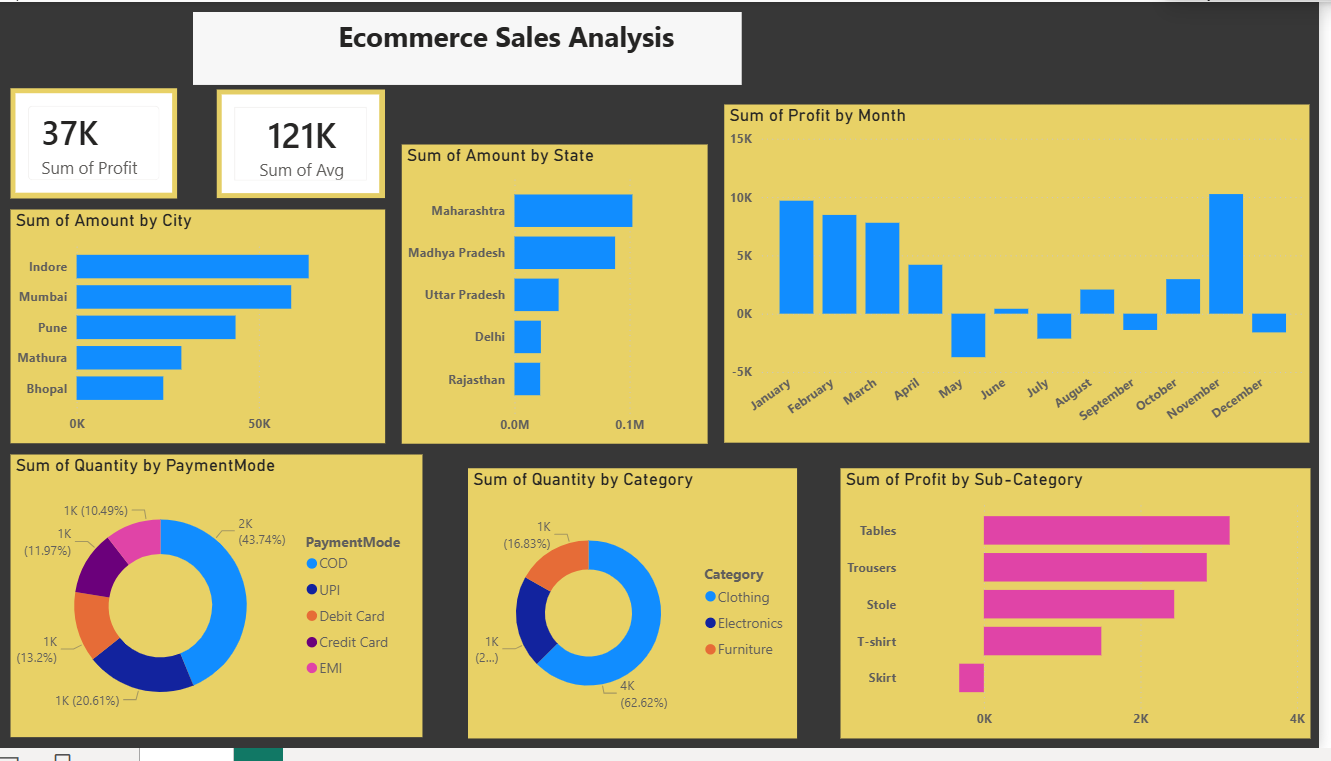

What the dashboard file says about the page in this screenshot:
{"tool":"powerbi","page":{"name":"Page 1","canvas":[1280,720],"ordinal":0},"visuals":[{"type":"columnChart","fields":{"Y":["Sum(Details.Profit)"],"Category":["Orders.Order Date.Variation.Date Hierarchy.Month"]},"box":[706,99.5,564.5,326.4],"z":0},{"type":"barChart","fields":{"Y":["Sum(Details.Profit)"],"Category":["Details.Sub-Category"]},"box":[818,449.6,453.8,260.5],"z":2},{"type":"donutChart","fields":{"Category":["Details.Category"],"Y":["Sum(Details.Quantity)"]},"box":[458,449.6,318,260.5],"z":3},{"type":"donutChart","fields":{"Y":["Sum(Details.Quantity)"],"Category":["Details.PaymentMode"]},"box":[16.8,437,397.8,273.1],"z":4},{"type":"cardVisual","fields":{"Data":["Sum(Details.Profit)"]},"box":[16.8,82.6,161.1,106.5],"z":8},{"type":"cardVisual","fields":{"Data":["Sum(Details.Avg)"]},"box":[215.7,84,162.5,105.1],"z":9},{"type":"textbox","box":[193.3,9.8,529.5,70],"z":10},{"type":"barChart","fields":{"Y":["Sum(Details.Amount)"],"Category":["Orders.State"]},"box":[395,137.3,295.6,288.6],"z":11},{"type":"barChart","fields":{"Y":["Sum(Details.Amount)"],"Category":["Orders.City"]},"box":[16.8,200.3,361.4,225.5],"z":12}]}

Visuals, with their boxes in screenshot pixels (x1, y1, x2, y2), scaled from the page's 1280x720 canvas onto the 1331x761 screenshot:
columnChart - Sum(Details.Profit) x Orders.Order Date.Variation.Date Hierarchy.Month: bbox=[734, 105, 1321, 450]
barChart - Sum(Details.Profit) x Details.Sub-Category: bbox=[851, 475, 1322, 751]
donutChart - Details.Category x Sum(Details.Quantity): bbox=[476, 475, 807, 751]
donutChart - Sum(Details.Quantity) x Details.PaymentMode: bbox=[17, 462, 431, 751]
cardVisual - Sum(Details.Profit): bbox=[17, 87, 185, 200]
cardVisual - Sum(Details.Avg): bbox=[224, 89, 393, 200]
textbox: bbox=[201, 10, 752, 84]
barChart - Sum(Details.Amount) x Orders.State: bbox=[411, 145, 718, 450]
barChart - Sum(Details.Amount) x Orders.City: bbox=[17, 212, 393, 450]
